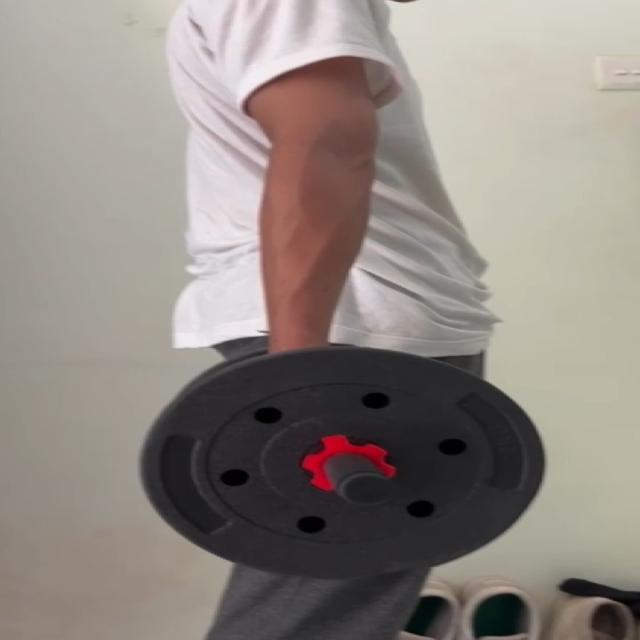dumbbell: (139, 342, 544, 578)
